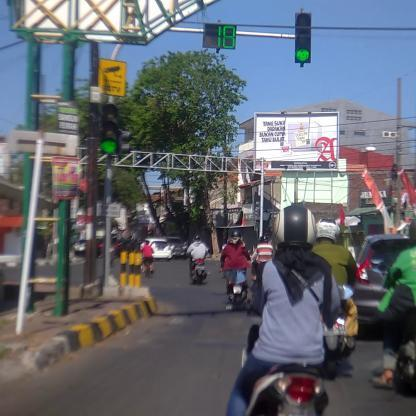green: (101, 102, 121, 156), (294, 12, 310, 64)
